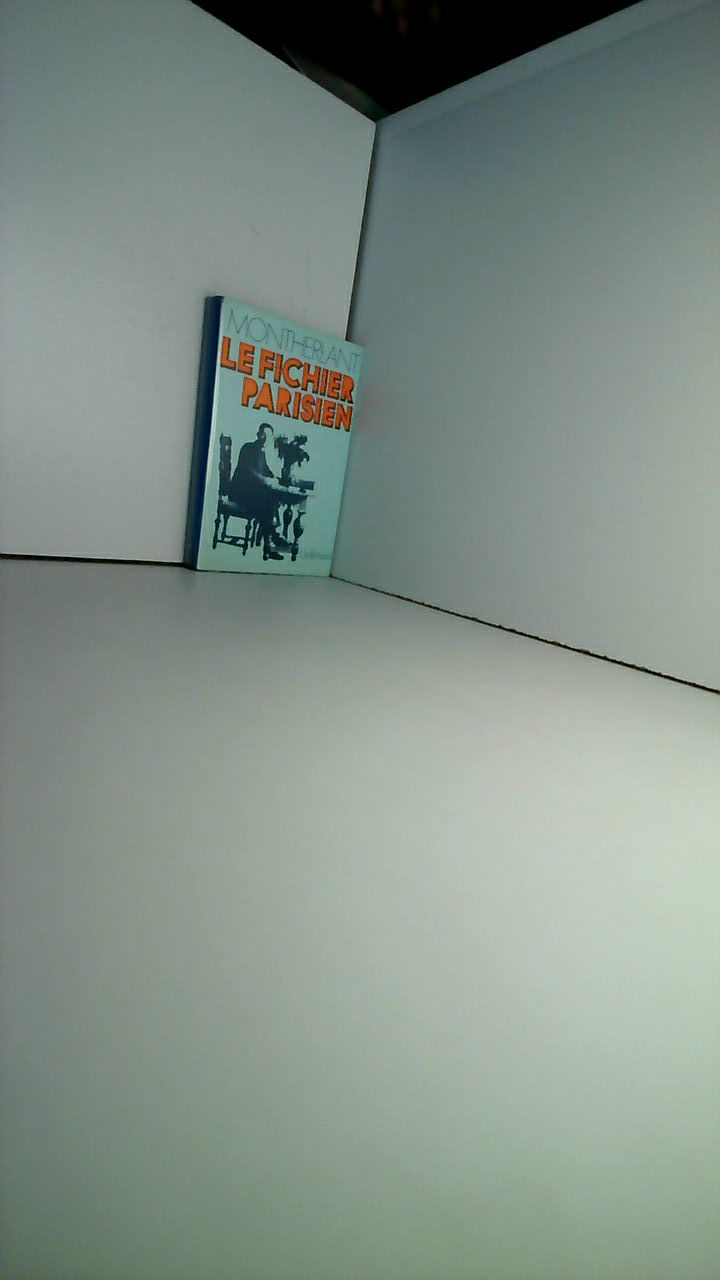book: (174, 286, 373, 592)
